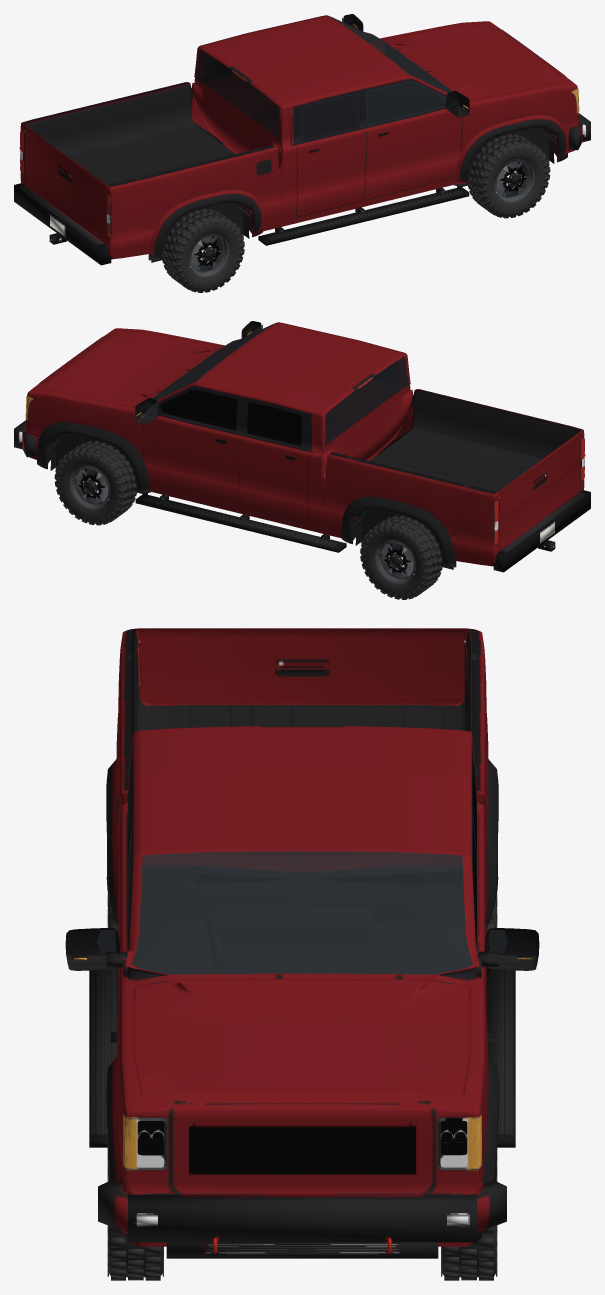
Rendered from pickup_baked.glb.
The picture shows the model from 3 angles, top to bottom: view 1: azimuth 30°, elevation 25°; view 2: azimuth 150°, elevation 25°; view 3: azimuth 270°, elevation 25°; orthographic projection. The views are drawn at different scales.
Visible parts, largest first — view 1: body, hood, wheel_rr, wheel_fr, hide, bay; view 2: body, hood, wheel_rl, wheel_fl, bay, hide; view 3: body, hood, wheel_fl, wheel_fr, lamp_head, lamp_amber.
Part boxes in pixels (<box>): body: <box>14,14,590,265</box>; hood: <box>382,23,564,100</box>; wheel_rr: <box>162,208,244,292</box>; wheel_fr: <box>468,134,550,218</box>; hide: <box>459,128,554,187</box>; bay: <box>385,43,451,92</box>; body: <box>14,321,590,572</box>; hood: <box>40,330,222,407</box>; wheel_rl: <box>360,515,442,599</box>; wheel_fl: <box>54,441,136,525</box>; bay: <box>153,350,219,399</box>; hide: <box>50,435,145,494</box>; body: <box>65,628,539,1258</box>; hood: <box>134,979,470,1096</box>; wheel_fl: <box>441,1141,497,1280</box>; wheel_fr: <box>107,1141,163,1280</box>; lamp_head: <box>136,1132,468,1226</box>; lamp_amber: <box>71,956,533,1167</box>.
Bounding box in the file's own units: 5.94 × 1.87 × 2.44.
16 materials, 6 textured.
